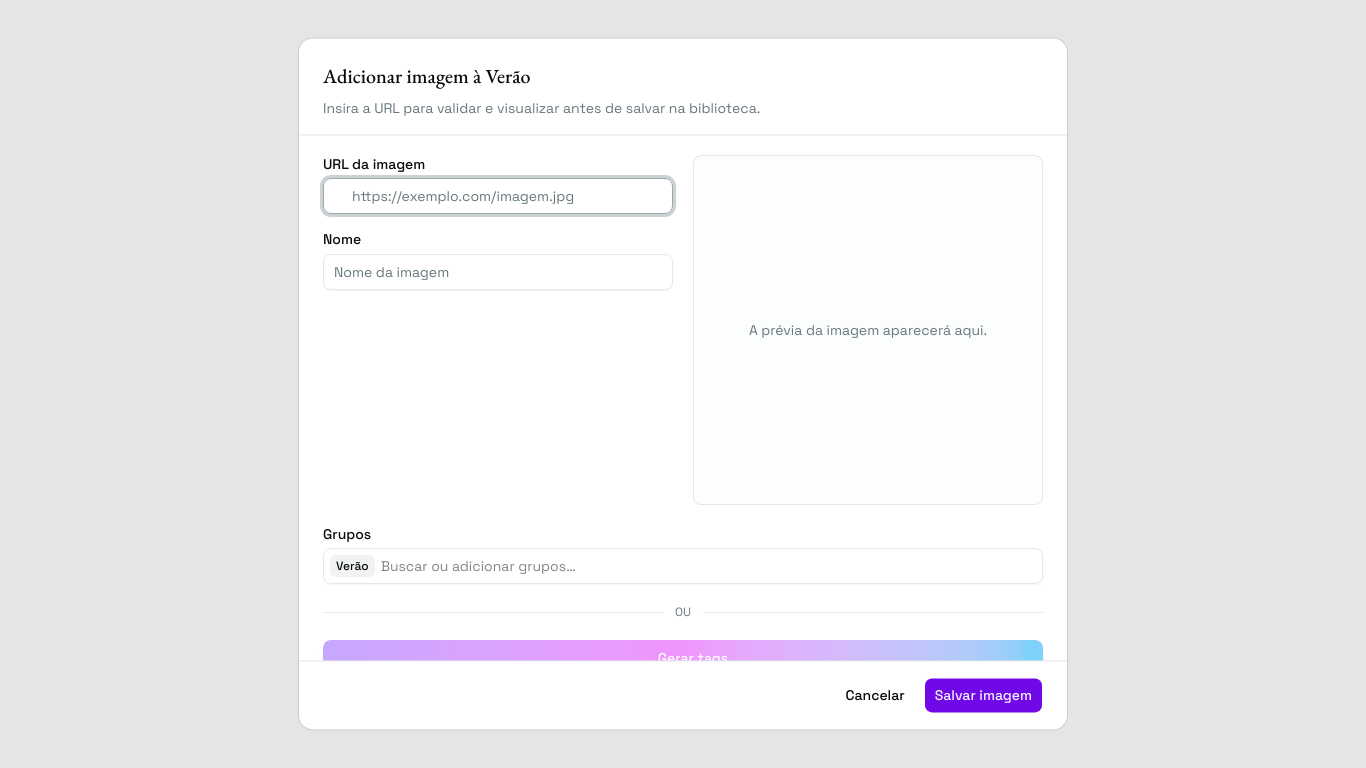
Test case: AddImageModal › presets merged group ids and shows collection title when locked
Expected: the dialog is shown, [299, 38, 1067, 730]
Step 1. Click the dropdown with placeholder "Buscar ou adicionar grupos…" → (708, 567), box [381, 557, 1036, 577]
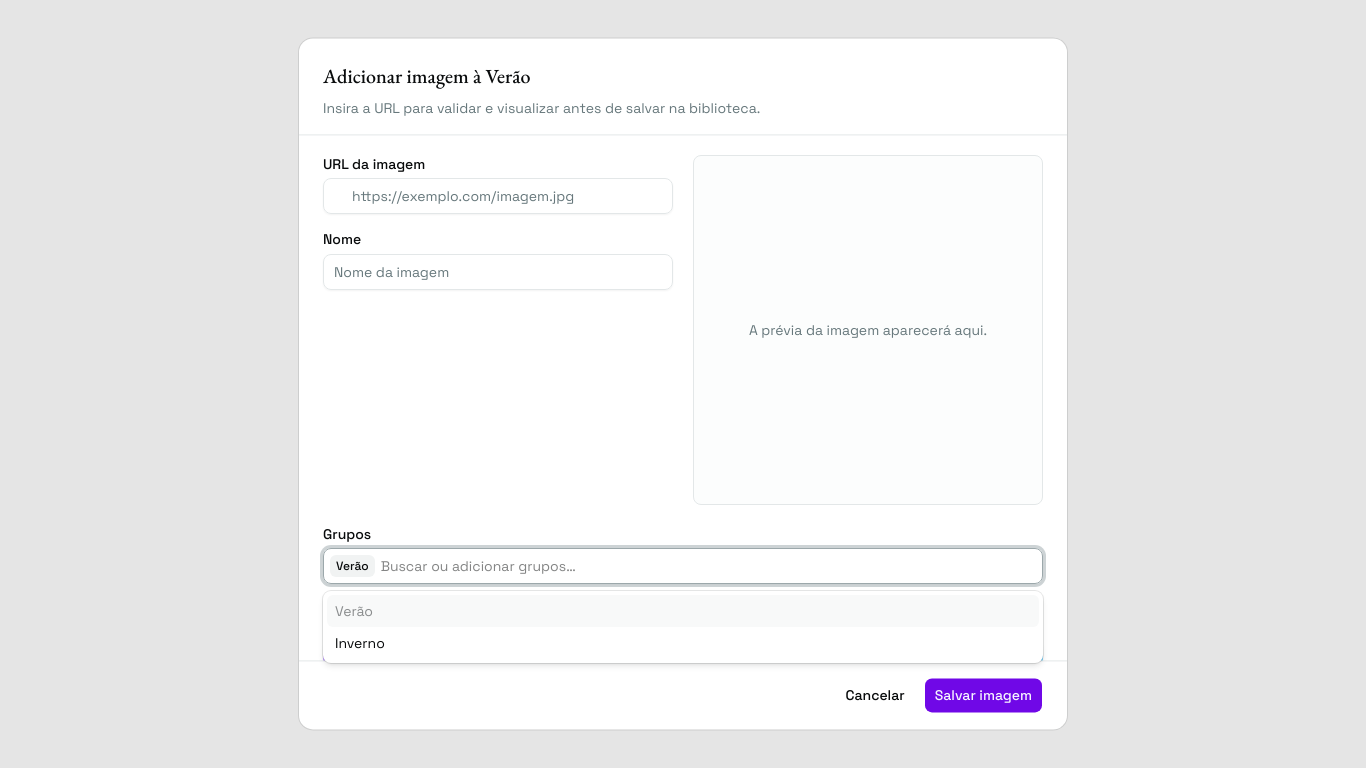
Expected: the heading "Adicionar imagem à Verão" is shown, [323, 63, 531, 89]
Expected: the option "Inverno" is shown, [335, 634, 385, 652]
